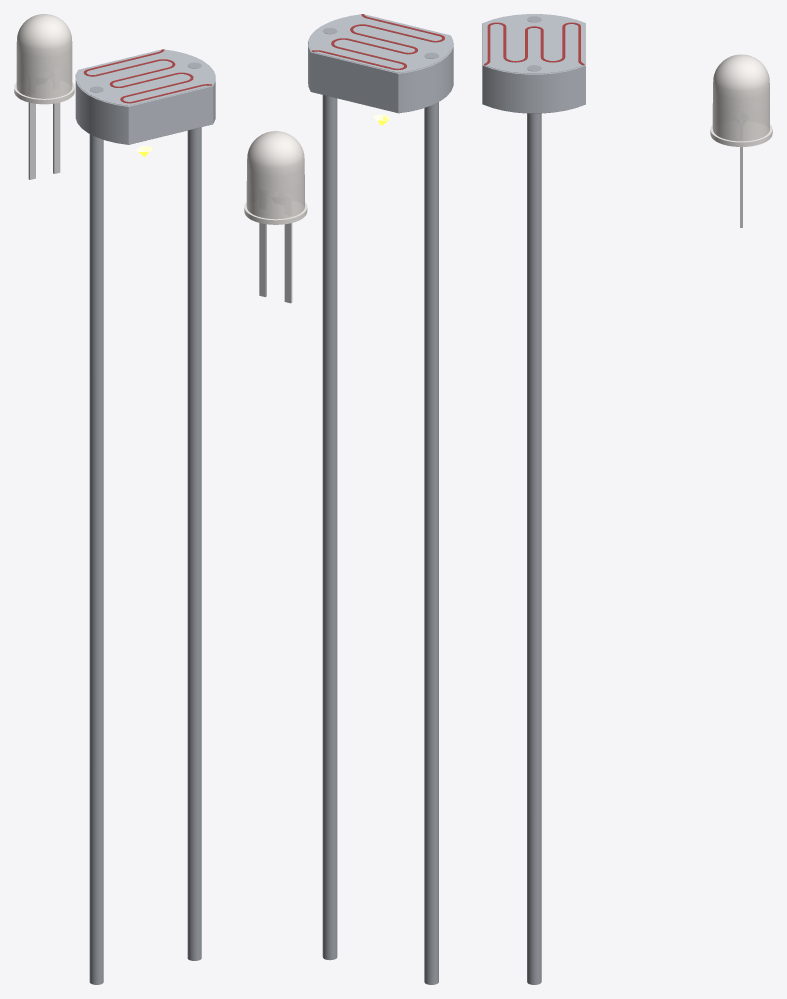
Rendered from led.fbx.
3 views of the same model, side by side, from view 1: azimuth 30°, elevation 25°; view 2: azimuth 150°, elevation 25°; view 3: azimuth 270°, elevation 25° (orthographic). The views are drawn at different scales.
Parts seen in each view (by area): view 1: currentmodel.wrl.cleaner.materialmerger.gles, plastic_2, metal_1; view 2: currentmodel.wrl.cleaner.materialmerger.gles, plastic_2, metal_1; view 3: currentmodel.wrl.cleaner.materialmerger.gles, plastic_2.
Part boxes in pixels (x1,y1,x2,y2): currentmodel.wrl.cleaner.materialmerger.gles: (75,49,215,984); plastic_2: (14,14,74,104); metal_1: (28,102,60,179); currentmodel.wrl.cleaner.materialmerger.gles: (308,14,453,984); plastic_2: (244,131,307,224); metal_1: (259,223,292,303); currentmodel.wrl.cleaner.materialmerger.gles: (482,14,585,984); plastic_2: (710,54,772,146).
Size of the model in its own units: 498 by 3501 by 1007.
